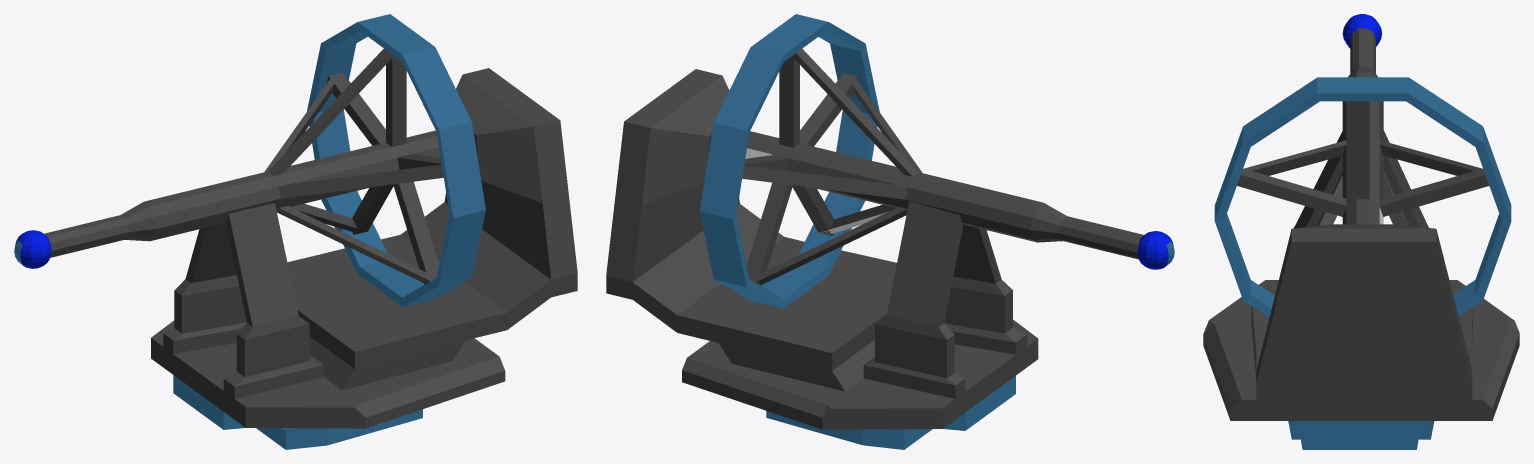
File: lasertower.fbx
The picture shows the model from 3 angles, left to right: view 1: azimuth 30°, elevation 25°; view 2: azimuth 150°, elevation 25°; view 3: azimuth 270°, elevation 25°; orthographic projection.
Parts seen in each view (by area): view 1: Cube.001; view 2: Cube.001; view 3: Cube.001.
Part boxes in pixels (box(x1,y1,x2,y2)): Cube.001: box(14, 14, 577, 449); Cube.001: box(606, 14, 1174, 449); Cube.001: box(1203, 14, 1519, 449).
Size of the model in its own units: 176 by 119 by 93.53.
